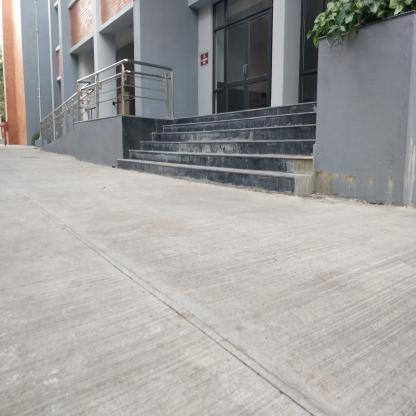stairs: (177, 107, 307, 199)
